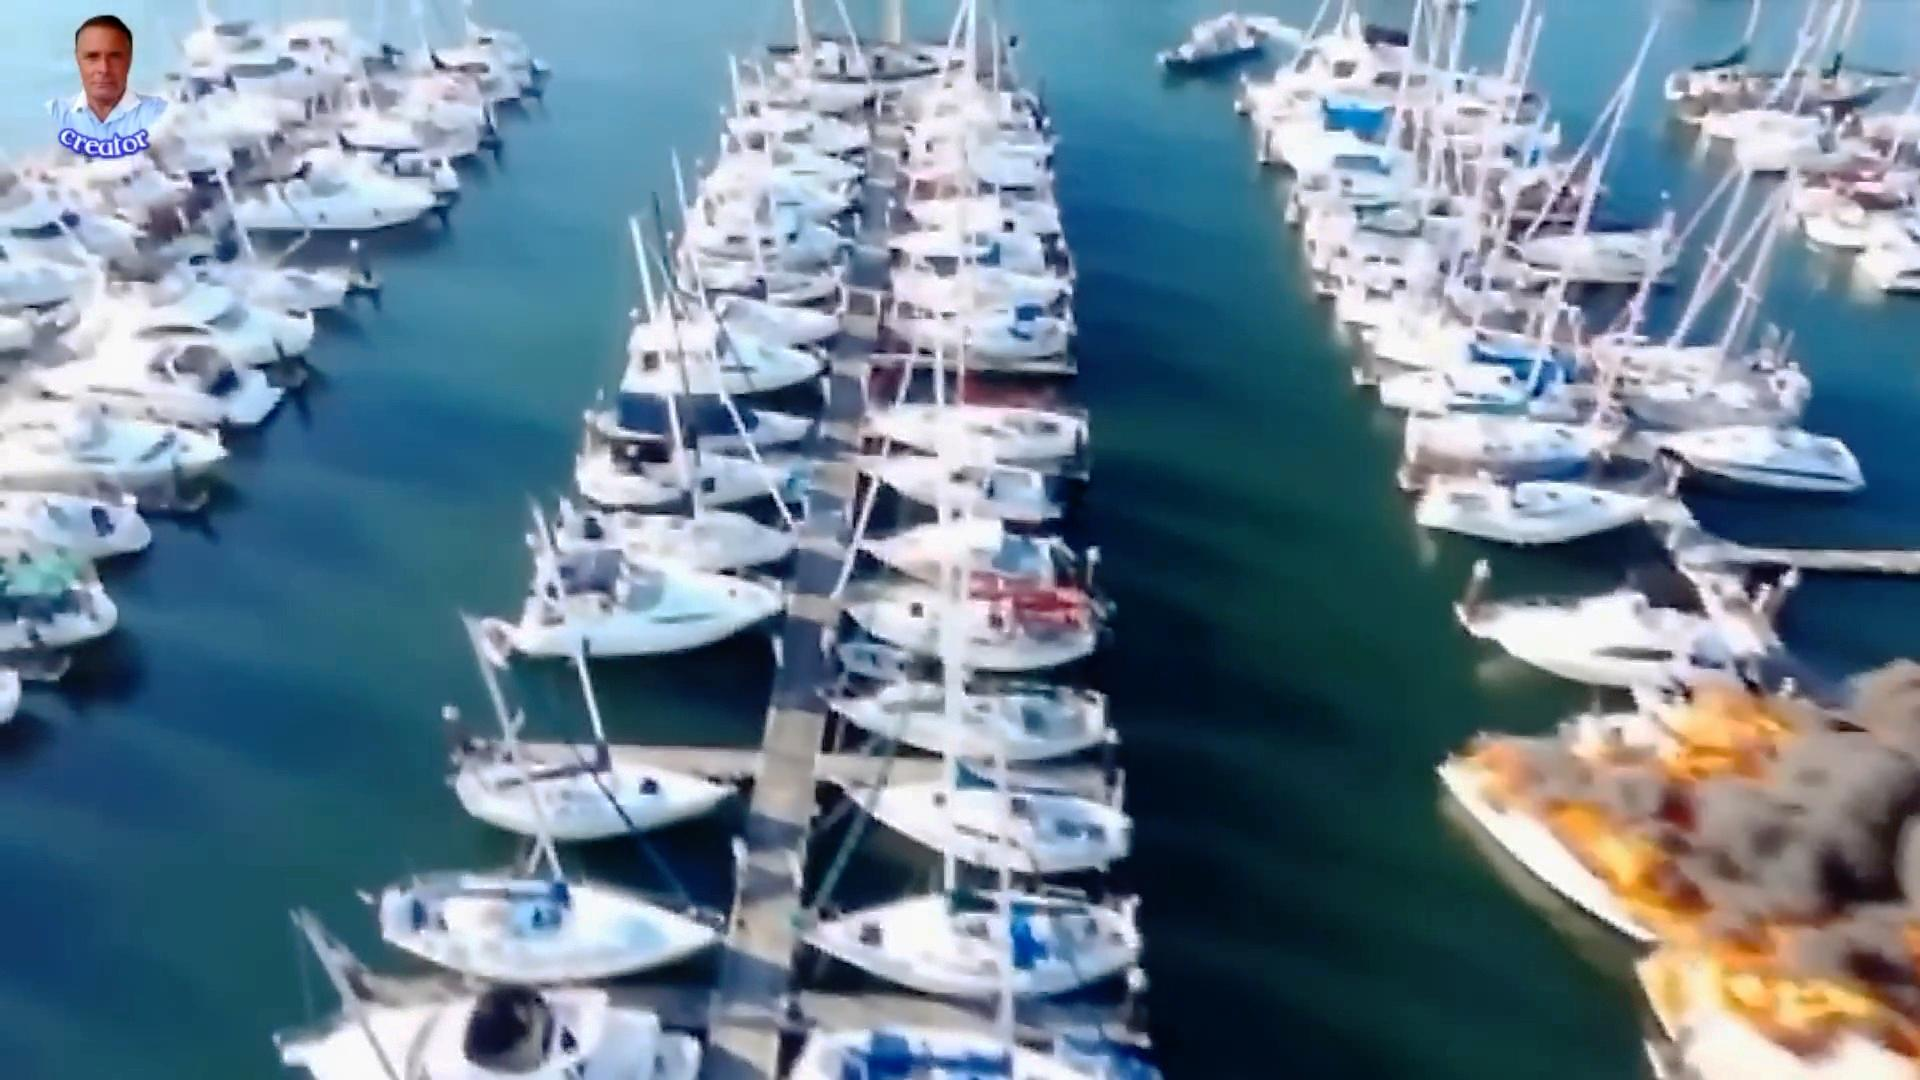fire: (1631, 930, 1874, 1038), (1556, 773, 1667, 906)
